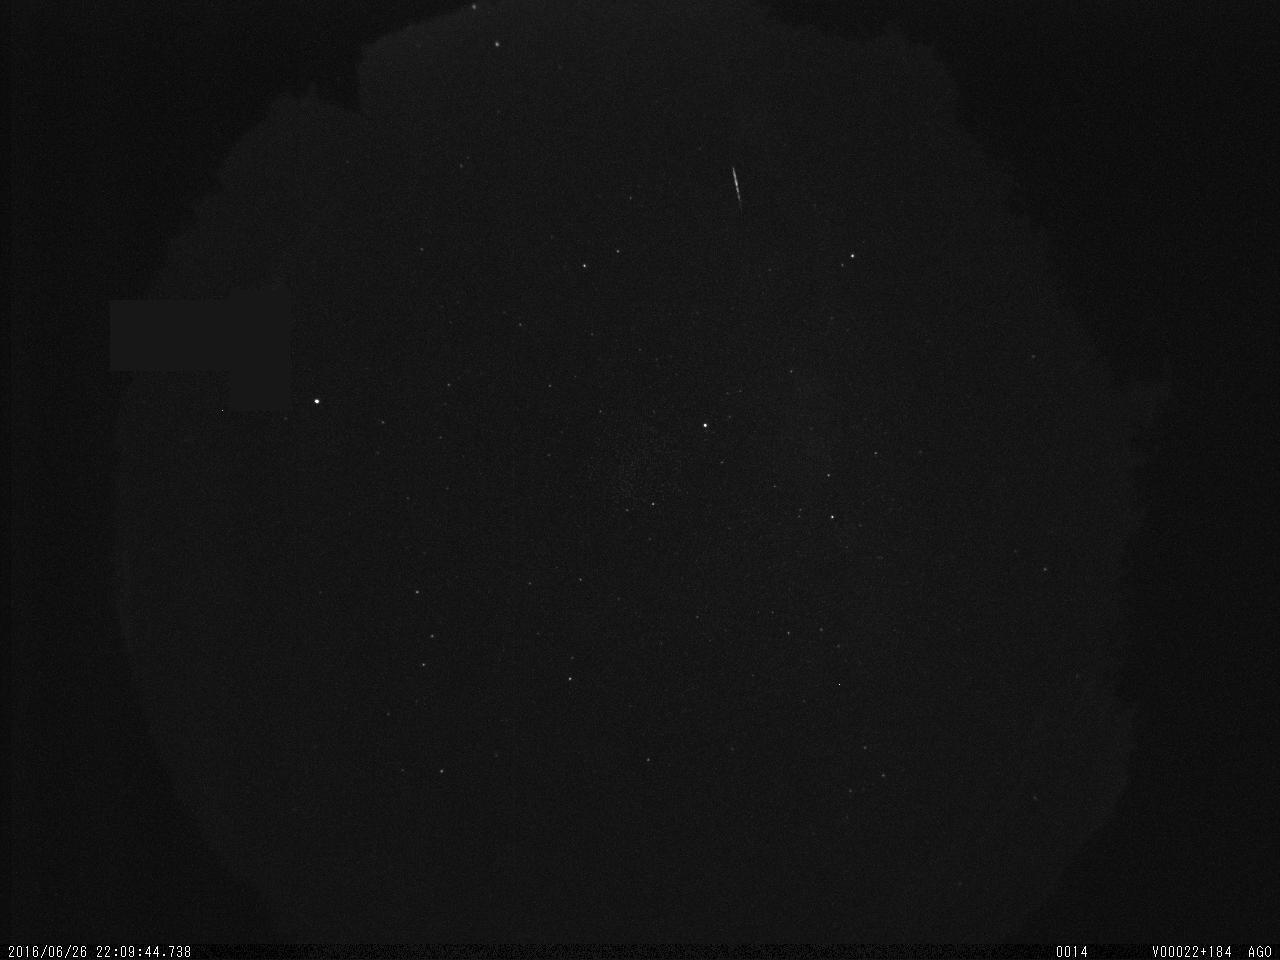meteor: (724, 141, 768, 229)
